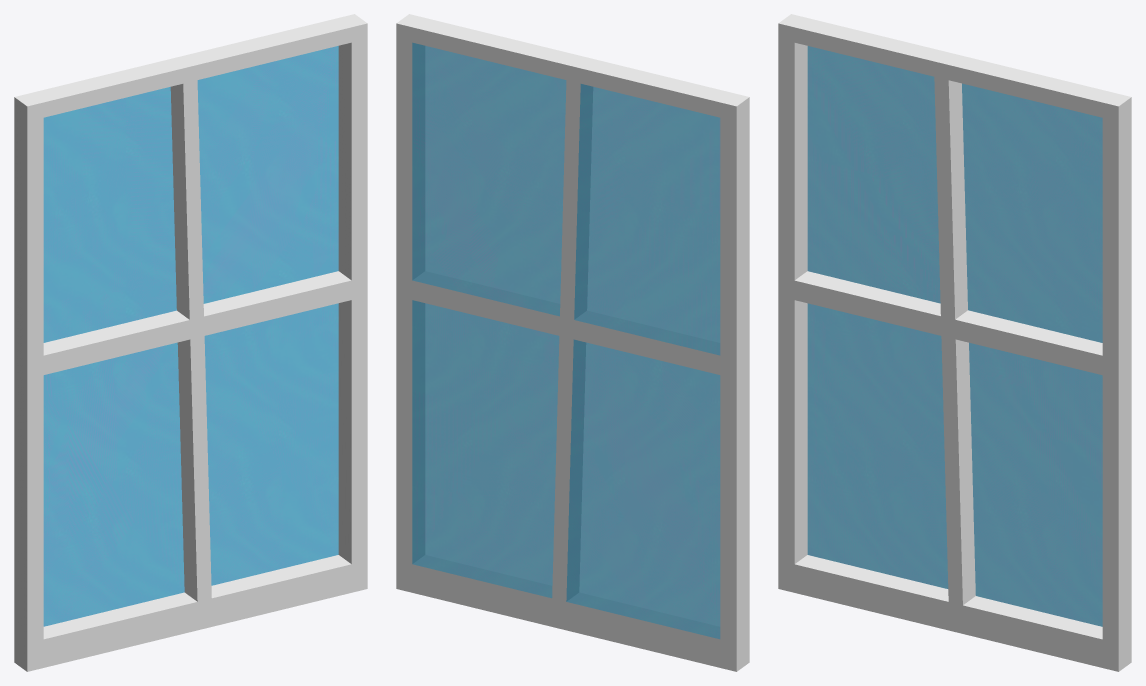
The picture shows the model from 3 angles, left to right: view 1: azimuth 30°, elevation 25°; view 2: azimuth 150°, elevation 25°; view 3: azimuth 330°, elevation 25°; orthographic projection.
Parts seen in each view (by area): view 1: SketchUp (×8); view 2: SketchUp (×8); view 3: SketchUp (×8).
Boxes of the visible parts, bbox=[...] form: SketchUp (×8): bbox=[14, 14, 367, 671]; SketchUp (×8): bbox=[396, 14, 749, 671]; SketchUp (×8): bbox=[778, 14, 1131, 671].
Bounding box in the file's own units: 53.38 × 3.5 × 84.74.
Materials: 4 (1 with a texture image).
